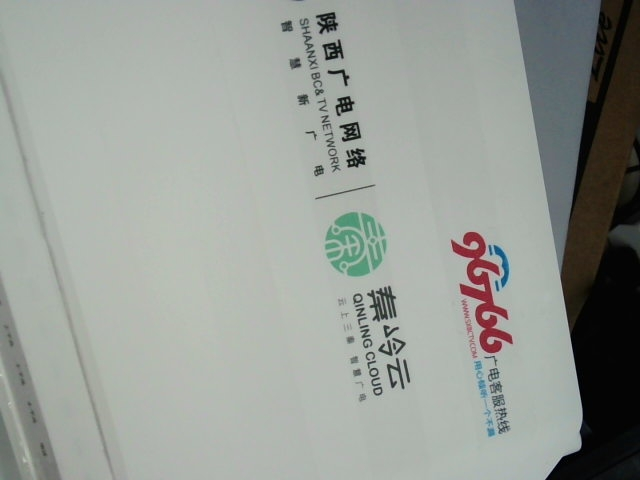AE_QinLing: (310, 204, 419, 414)
